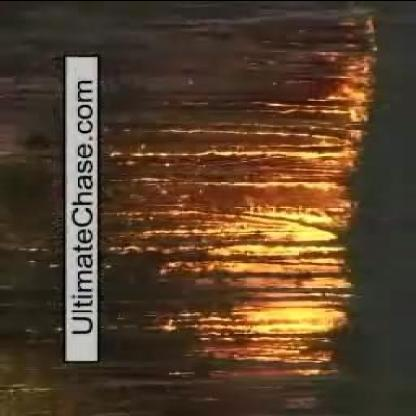foggia-v2-map80-epoch100 - v1 4323: (236, 210, 342, 332)
